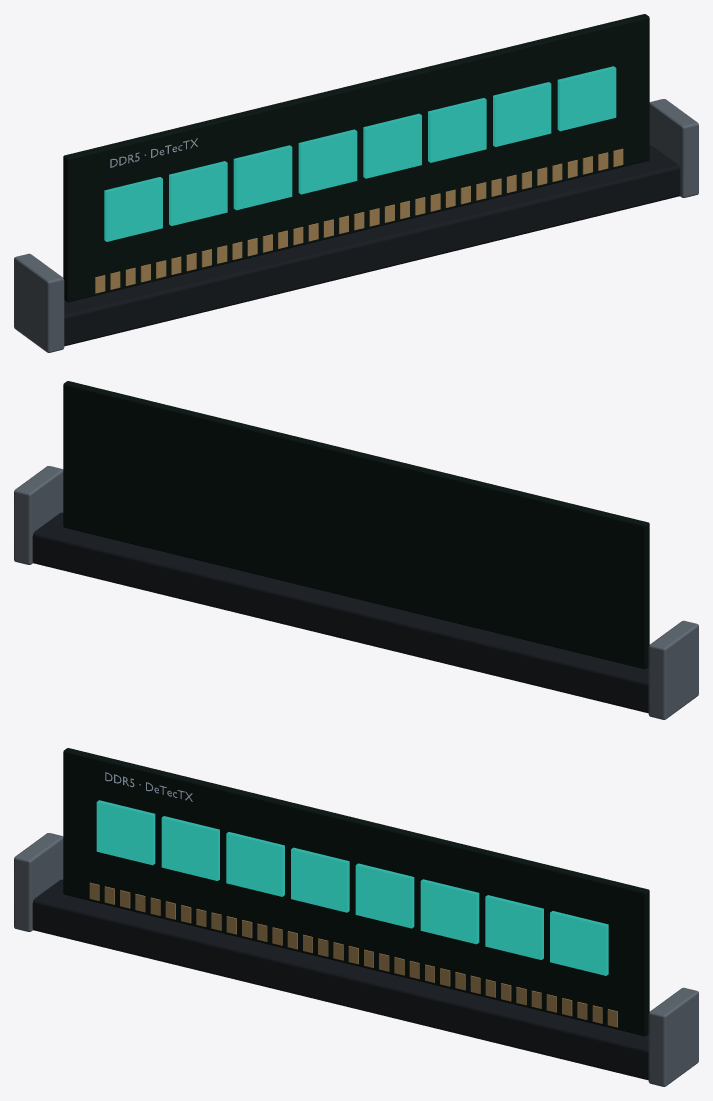
The model's file is ram.glb.
3 renders of one model, top to bottom at view 1: azimuth 30°, elevation 25°; view 2: azimuth 150°, elevation 25°; view 3: azimuth 330°, elevation 25°, orthographic.
Visible parts, largest first — view 1: RAM_Board, RAM_Slot, RAM_Pads, RAM_Latch_L, RAM_Latch_R, RAM_Chip_2, RAM_Chip_3, RAM_Chip_7, RAM_Chip_4, RAM_Chip_1, RAM_Chip_5, RAM_Chip_6 (+1 smaller); view 2: RAM_Board, RAM_Slot, RAM_Latch_L, RAM_Latch_R; view 3: RAM_Board, RAM_Slot, RAM_Pads, RAM_Latch_R, RAM_Latch_L, RAM_Chip_0, RAM_Chip_4, RAM_Chip_5, RAM_Chip_3, RAM_Chip_1, RAM_Chip_2, RAM_Chip_6 (+1 smaller).
Part boxes in pixels (box(x1,y1,x2,y2)): RAM_Board: box(63, 14, 649, 302); RAM_Slot: box(64, 145, 680, 346); RAM_Pads: box(95, 148, 623, 293); RAM_Latch_L: box(14, 253, 64, 352); RAM_Latch_R: box(649, 99, 698, 197); RAM_Chip_2: box(233, 145, 292, 210); RAM_Chip_3: box(298, 129, 357, 194); RAM_Chip_7: box(557, 66, 616, 131); RAM_Chip_4: box(363, 113, 421, 178); RAM_Chip_1: box(169, 161, 227, 225); RAM_Chip_5: box(428, 98, 486, 162); RAM_Chip_6: box(493, 82, 551, 146); RAM_Board: box(63, 381, 649, 669); RAM_Slot: box(32, 512, 648, 713); RAM_Latch_L: box(648, 620, 698, 719); RAM_Latch_R: box(14, 466, 63, 564); RAM_Board: box(63, 748, 649, 1036); RAM_Slot: box(32, 879, 648, 1080); RAM_Pads: box(89, 882, 617, 1027); RAM_Latch_R: box(648, 987, 698, 1086); RAM_Latch_L: box(14, 833, 63, 931); RAM_Chip_0: box(96, 800, 155, 865); RAM_Chip_4: box(355, 863, 414, 928); RAM_Chip_5: box(420, 879, 479, 944); RAM_Chip_3: box(291, 847, 349, 912); RAM_Chip_1: box(161, 816, 219, 880); RAM_Chip_2: box(226, 832, 284, 896); RAM_Chip_6: box(485, 895, 543, 959).
Bounding box in the file's own units: 3.02 × 0.78 × 0.28.
